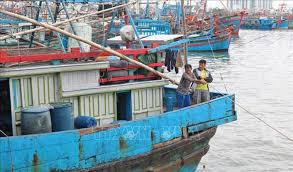tau_dansu: (1, 32, 218, 172), (181, 16, 231, 57), (247, 12, 278, 31)
